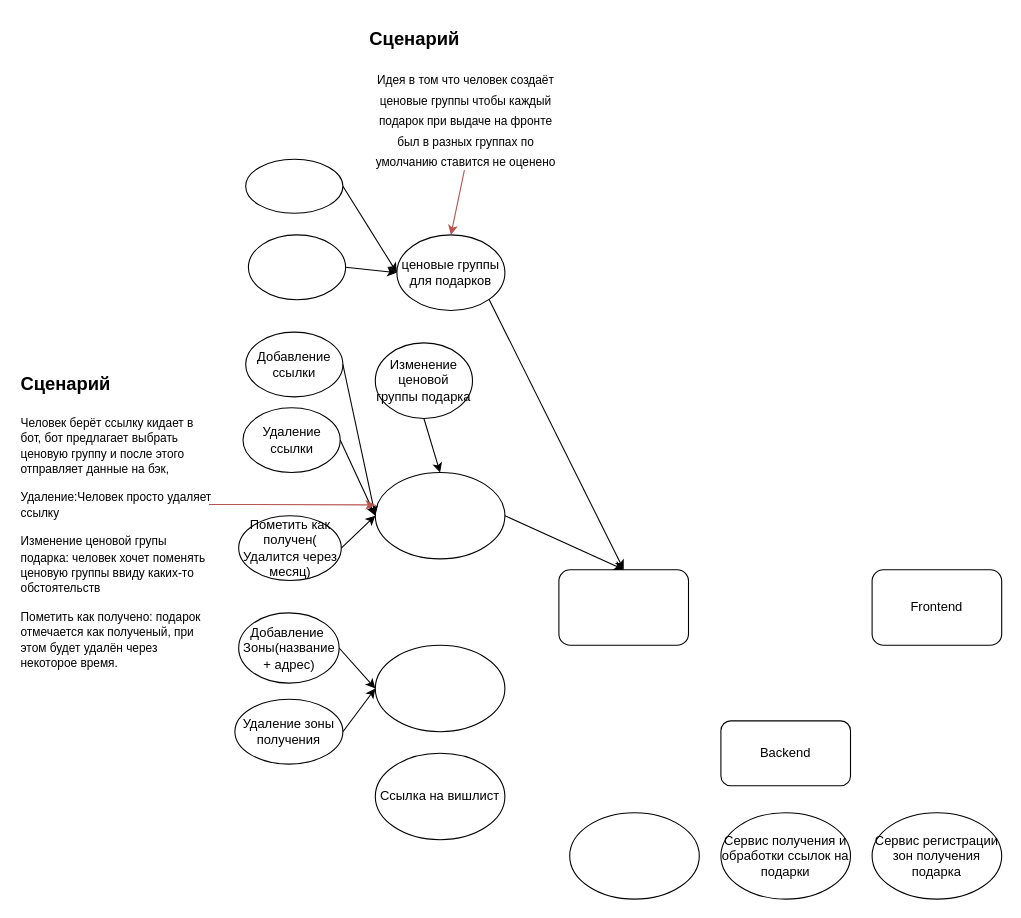
Some shapes in this 1021 by 918 pixel diagram are drawn without their labels. Here are the shapes that lost their labels. From the top down, the box of each, then its label:
(245, 158, 343, 213): создание ценовых групп
(247, 234, 346, 300): удаление ценовых групп
(374, 471, 505, 559): Ссылки на подарки
(558, 569, 688, 645): Телеграм бот
(374, 644, 505, 732): Зоны получения
